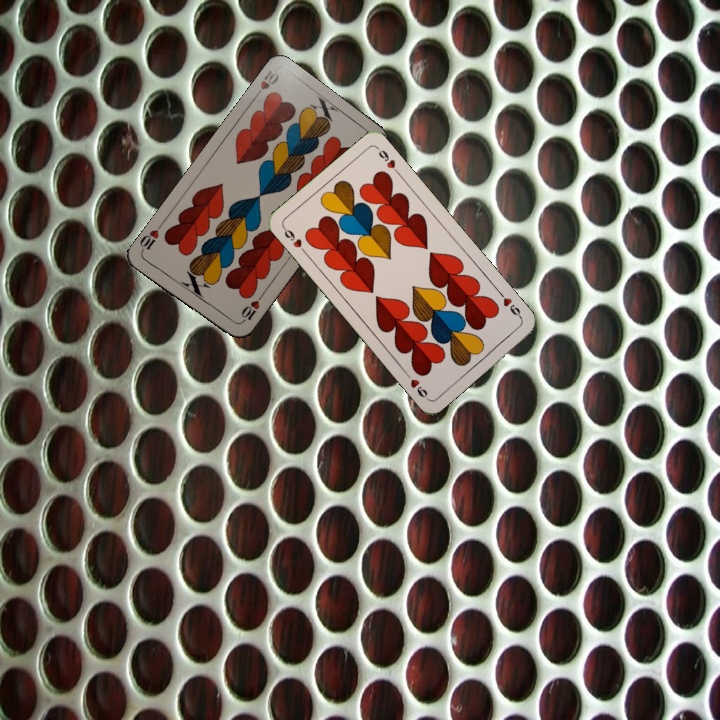H10: (249, 66, 283, 102), (236, 291, 265, 327)
H9: (495, 288, 525, 322), (279, 223, 309, 256)
